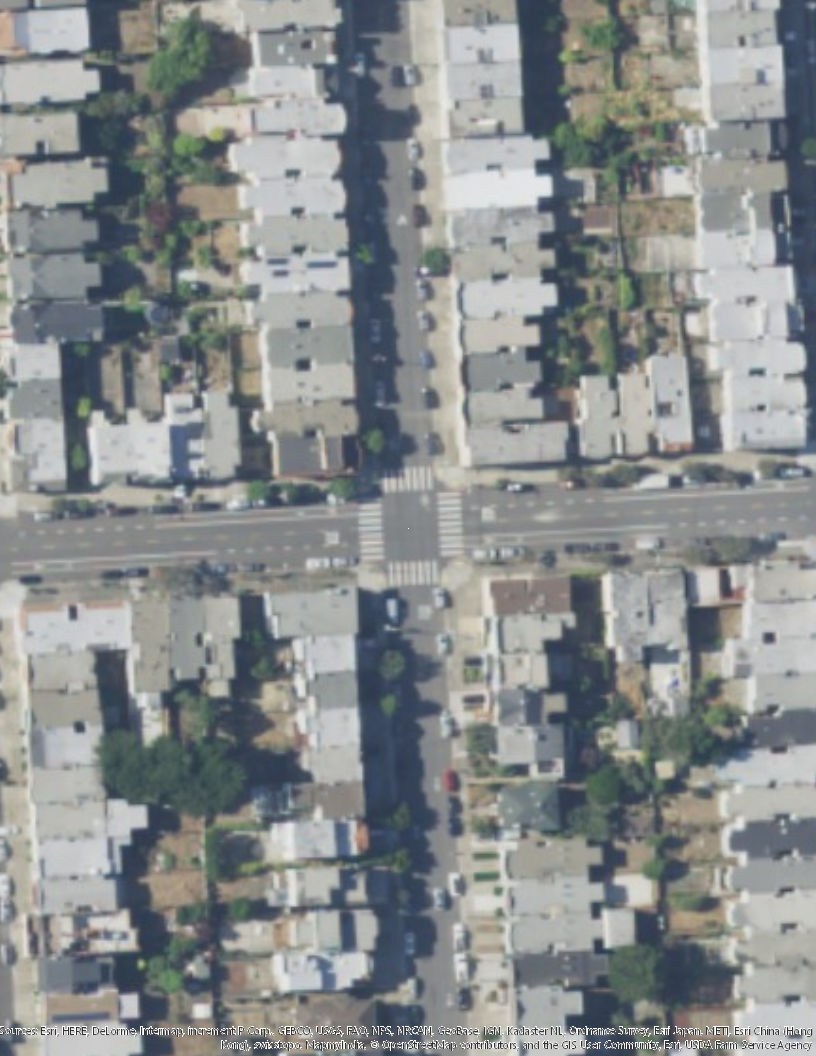zebracross: (434, 493, 465, 559), (358, 499, 385, 562), (389, 559, 442, 588), (377, 467, 435, 493)
